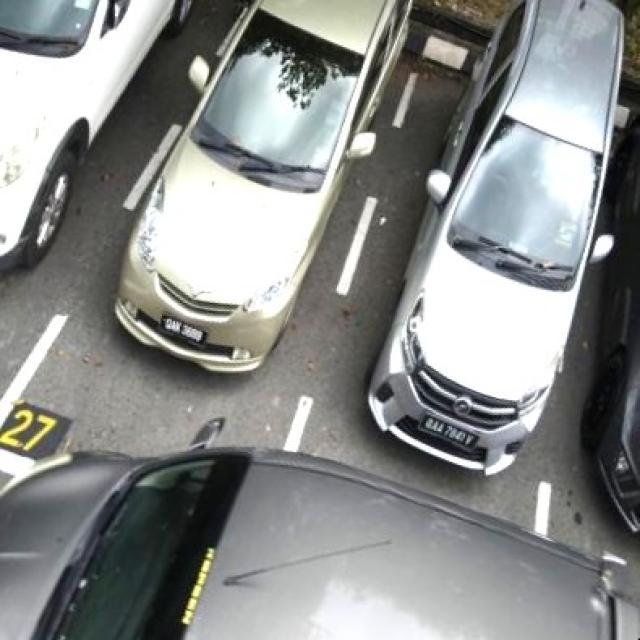Legalparking: (369, 0, 622, 471), (115, 0, 410, 369)
illegalparking: (0, 418, 638, 638)
